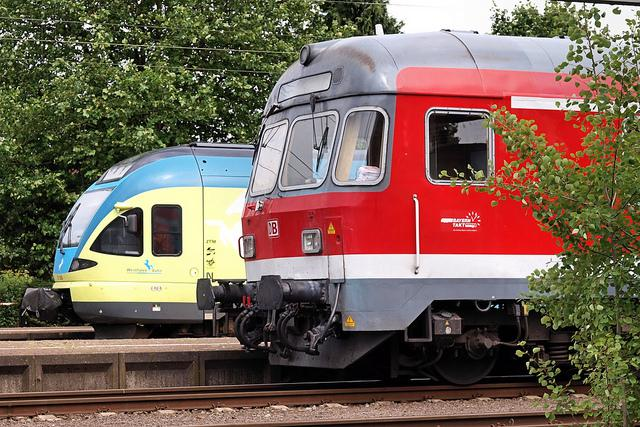Train: (198, 25, 602, 384), (21, 144, 254, 341)
